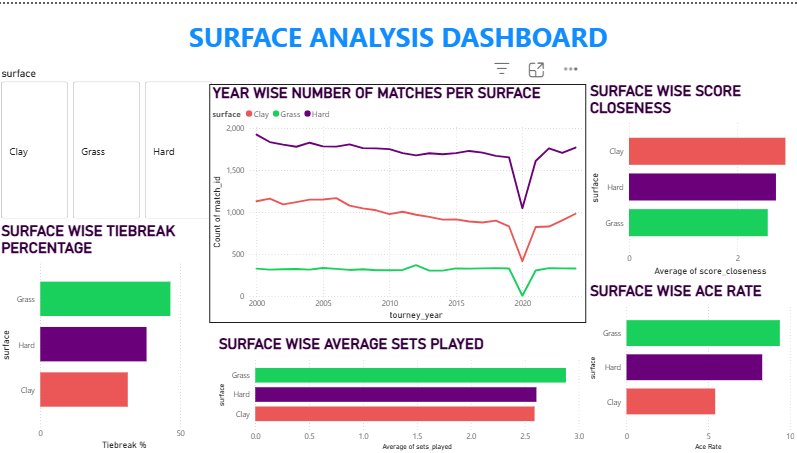

This screenshot's page, from the dashboard's own definition file:
{"tool":"powerbi","page":{"name":"Surface Analysis","canvas":[1280,720],"ordinal":2},"visuals":[{"type":"textbox","box":[0,0,1280,100],"z":0},{"type":"clusteredBarChart","title":"SURFACE WISE SCORE CLOSENESS","fields":{"Category":["tennis_db fact_matches.surface"],"Y":["Avg(tennis_db fact_matches.score_closeness)"]},"box":[942.9,124.3,337.1,315.7],"z":1000},{"type":"advancedSlicerVisual","fields":{"Values":["tennis_db fact_matches.surface"]},"box":[0,100,348.6,248.6],"z":2000},{"type":"clusteredBarChart","title":"SURFACE WISE TIEBREAK PERCENTAGE ","fields":{"Category":["tennis_db fact_matches.surface"],"Y":["tennis_db dim_players.Tiebreak %"]},"box":[0,348.6,348.6,371.4],"z":3000},{"type":"clusteredBarChart","title":"SURFACE WISE AVERAGE SETS PLAYED","fields":{"Category":["tennis_db fact_matches.surface"],"Y":["Avg(tennis_db fact_matches.sets_played)"]},"box":[348.6,530,594.3,190],"z":4000},{"type":"clusteredBarChart","title":"SURFACE WISE ACE RATE","fields":{"Category":["tennis_db fact_matches.surface"],"Y":["tennis_db dim_players.Ace Rate"]},"box":[942.9,444.3,337.1,275.7],"z":5000},{"type":"lineChart","title":"YEAR WISE NUMBER OF MATCHES PER SURFACE","fields":{"Category":["tennis_db fact_matches.tourney_year"],"Y":["CountNonNull(tennis_db fact_matches.match_id)"],"Series":["tennis_db fact_matches.surface"]},"box":[338.6,127.1,604.3,382.9],"z":6000}]}

Visuals, with their boxes in screenshot pixels (x1, y1, x2, y2), scaled from the page's 1280x720 canvas onto the 797x453 screenshot:
textbox: crop(0, 0, 796, 63)
"SURFACE WISE SCORE CLOSENESS" clusteredBarChart: crop(587, 78, 796, 277)
advancedSlicerVisual - tennis_db fact_matches.surface: crop(0, 63, 217, 219)
"SURFACE WISE TIEBREAK PERCENTAGE " clusteredBarChart: crop(0, 219, 217, 452)
"SURFACE WISE AVERAGE SETS PLAYED" clusteredBarChart: crop(217, 333, 587, 452)
"SURFACE WISE ACE RATE" clusteredBarChart: crop(587, 280, 796, 452)
"YEAR WISE NUMBER OF MATCHES PER SURFACE" lineChart: crop(211, 80, 587, 321)
